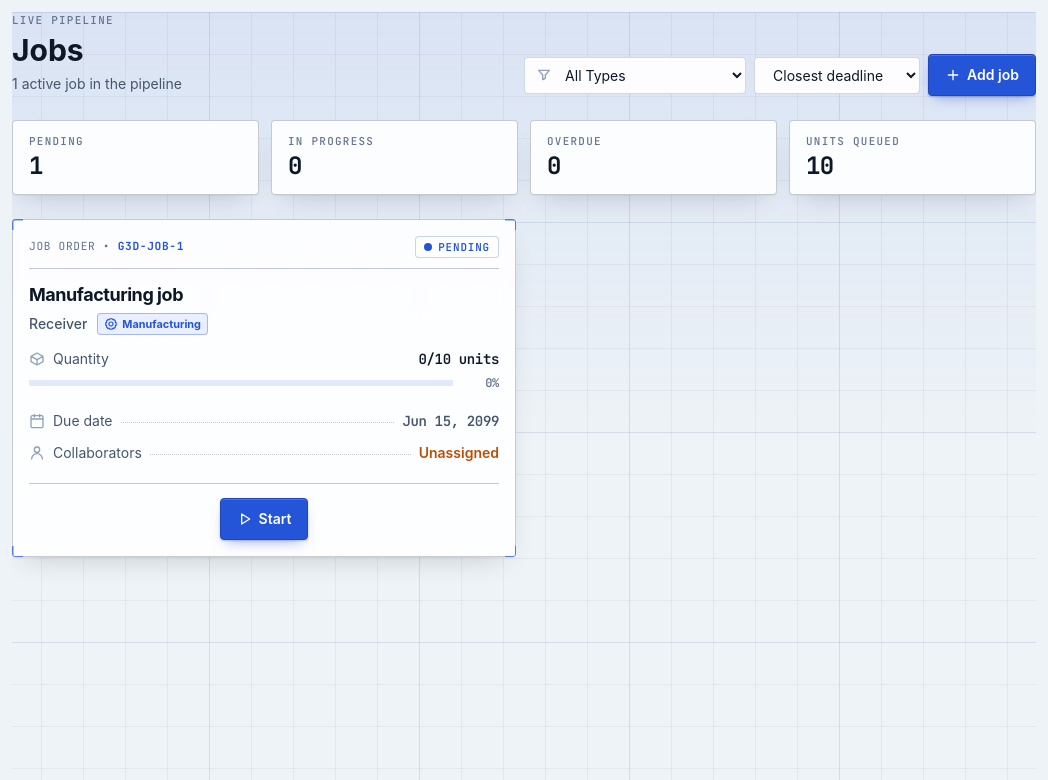
Test: Jobs category filter › shows the filtered empty state and clears it with Show All Types
This screenshot has width=1048, height=780.
Select "Repair" in the dropdown named "Filter by job type": (635,75) [524, 57, 746, 94]
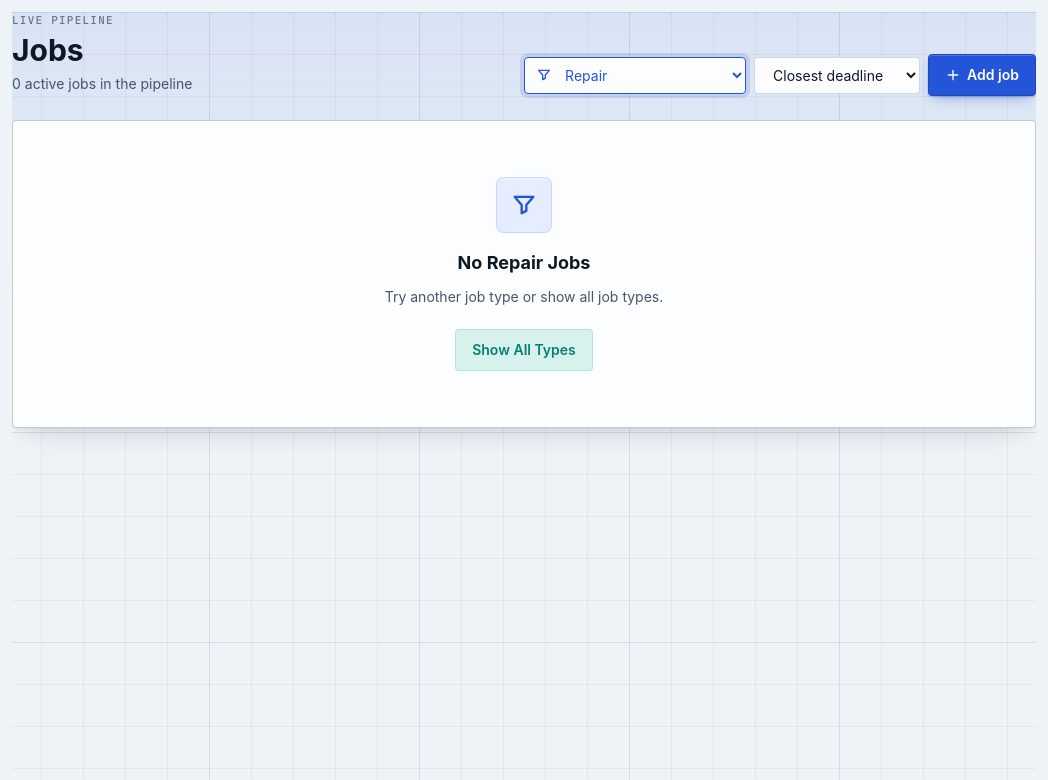
Check: the heading "No Repair Jobs" is shown, box [458, 249, 590, 277]
Check: the text "Try another job type or show all job types." is shown, box [385, 285, 663, 309]
Click the button "Show All Types": (524,350) [455, 329, 593, 371]
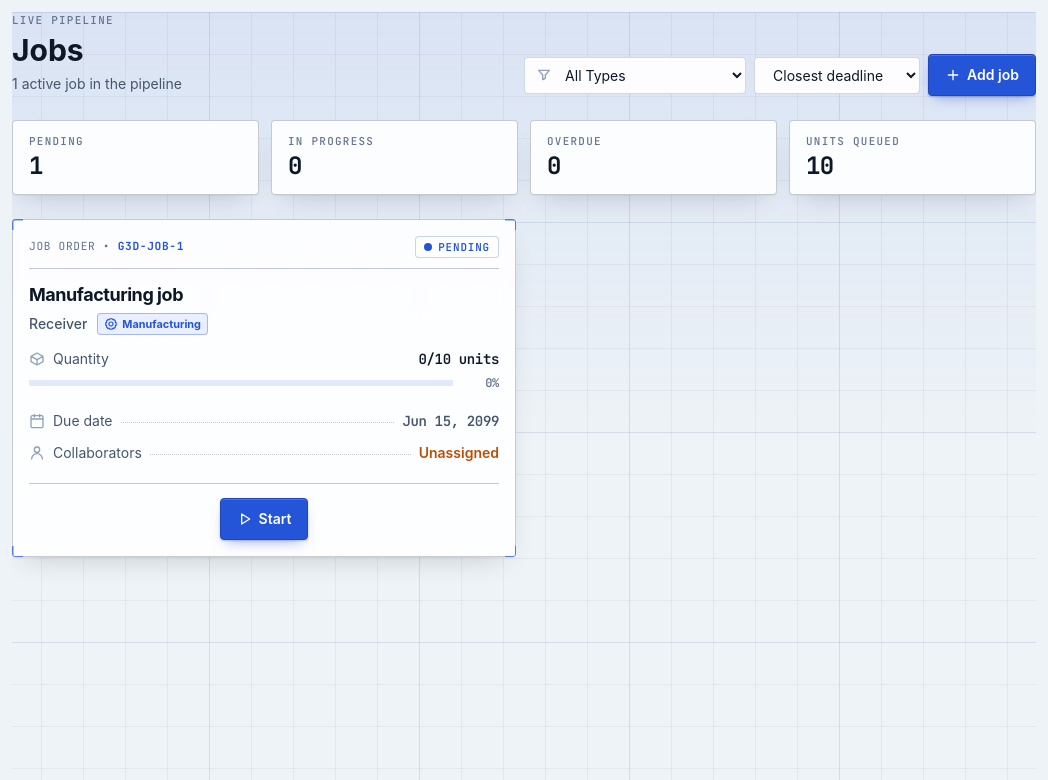
Check: the heading "Manufacturing job" is shown, box [29, 284, 183, 305]
